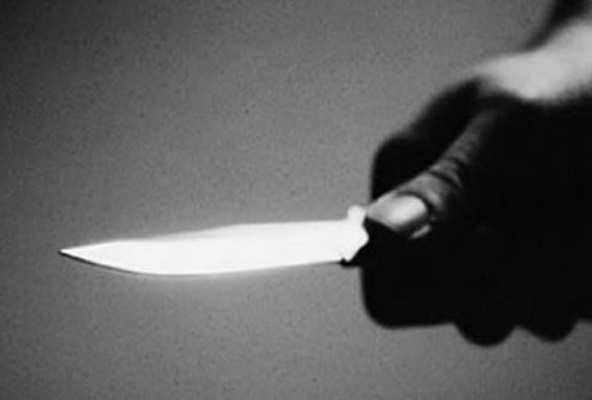knife: (52, 192, 592, 353)
